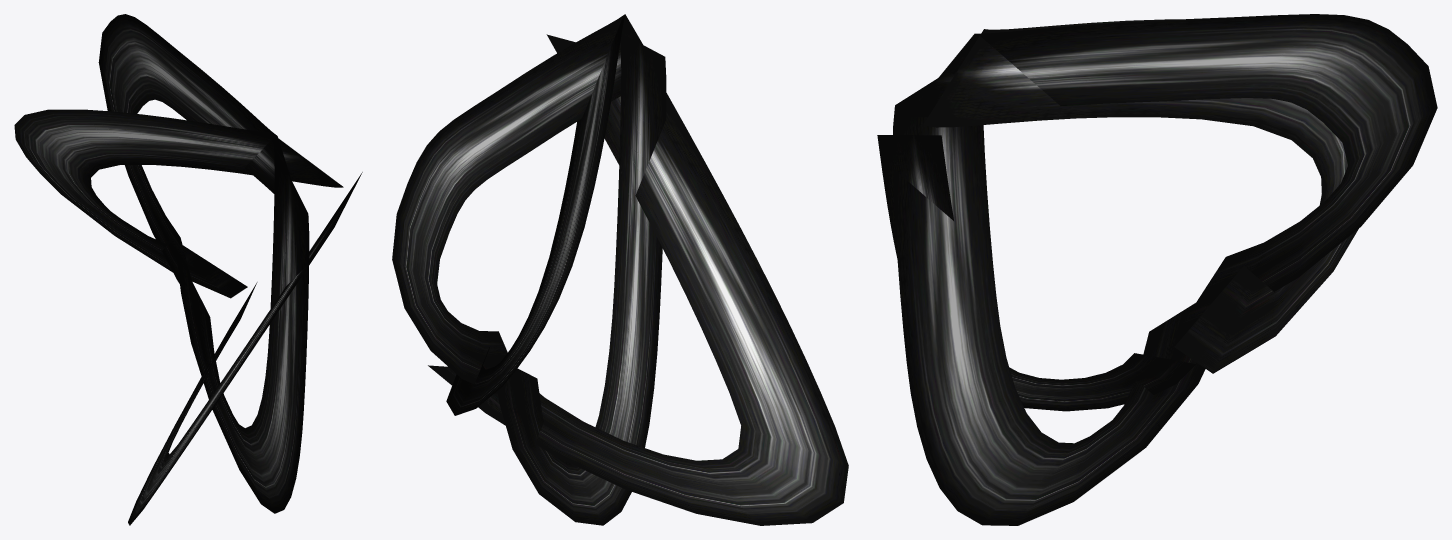
File: Effect_ui_huanshou.fbx
3 views of the same model, side by side, from view 1: azimuth 30°, elevation 25°; view 2: azimuth 150°, elevation 25°; view 3: azimuth 270°, elevation 25° (orthographic). The views are drawn at different scales.
Visible parts, largest first — view 1: Plane005, Plane006, Plane004, Plane003; view 2: Plane003, Plane004, Plane006, Plane005; view 3: Plane004, Plane006, Plane005, Plane003.
Boxes of the visible parts, box(x1,y1,x2,y2) form: Plane005: box(14, 109, 343, 298); Plane006: box(176, 146, 309, 513); Plane004: box(98, 14, 291, 283); Plane003: box(128, 172, 362, 525); Plane003: box(428, 34, 848, 525); Plane004: box(392, 14, 642, 393); Plane006: box(492, 34, 666, 525); Plane005: box(446, 16, 624, 415); Plane004: box(906, 14, 1437, 338); Plane006: box(893, 78, 1205, 525); Plane005: box(923, 19, 1358, 373); Plane003: box(877, 135, 1195, 411).
Size of the model in its own units: 2.74 by 4.49 by 4.45.
1 material, 1 textured.
